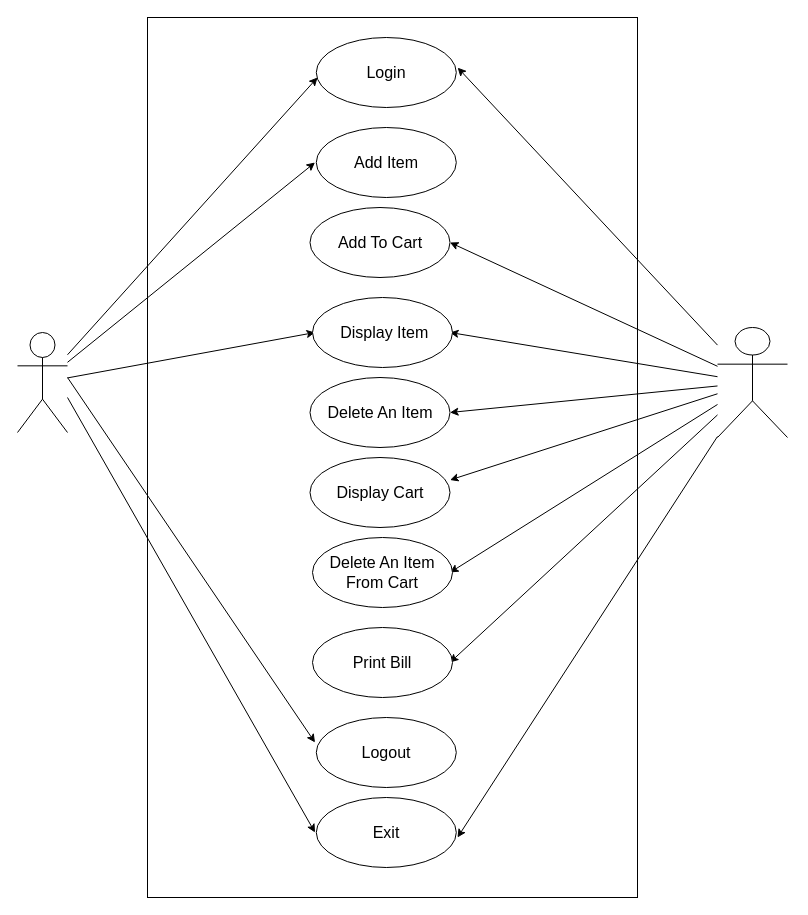
Image size: 808x915. Some labels were removed from this diagram. The shapes that lost their labels are listed below. From the top down, each one's box as (x1, y1, x2, y2) in pixels, then its label:
(16, 332, 68, 432): Admin
(716, 326, 788, 438): Employee
